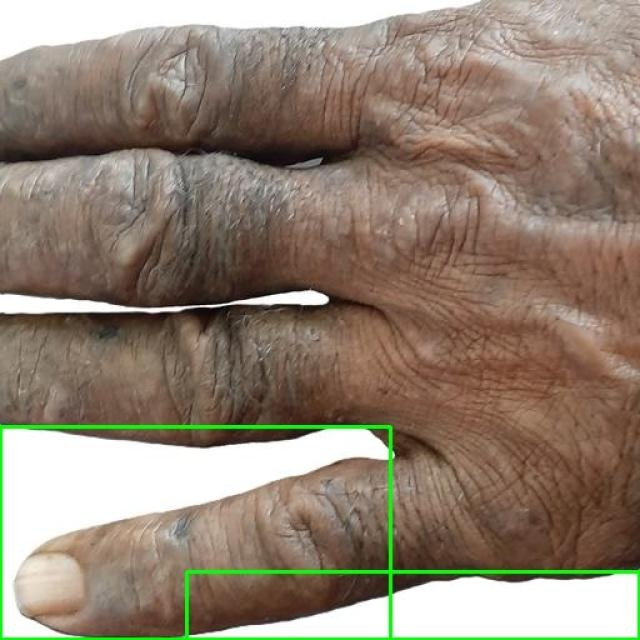Eczema: (0, 426, 390, 639), (186, 571, 639, 639)
